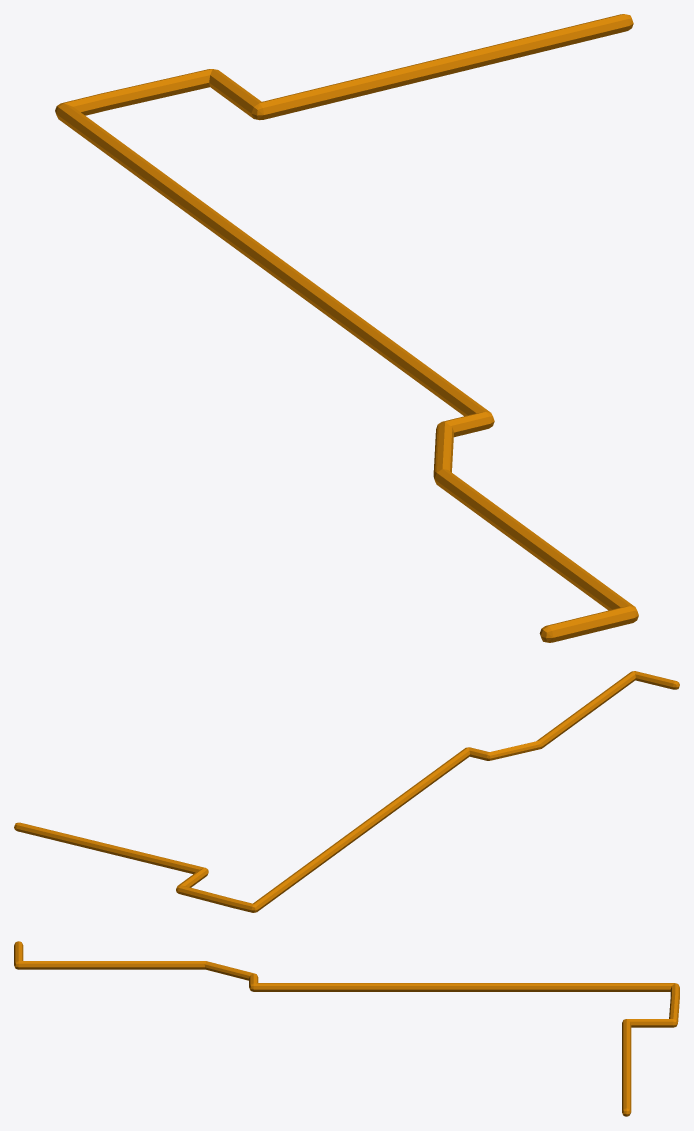
3 renders of one model, top to bottom at view 1: azimuth 30°, elevation 25°; view 2: azimuth 150°, elevation 25°; view 3: azimuth 270°, elevation 25°, orthographic. The views are drawn at different scales.
Bounding box in the file's own units: 863 × 20 × 1422.
